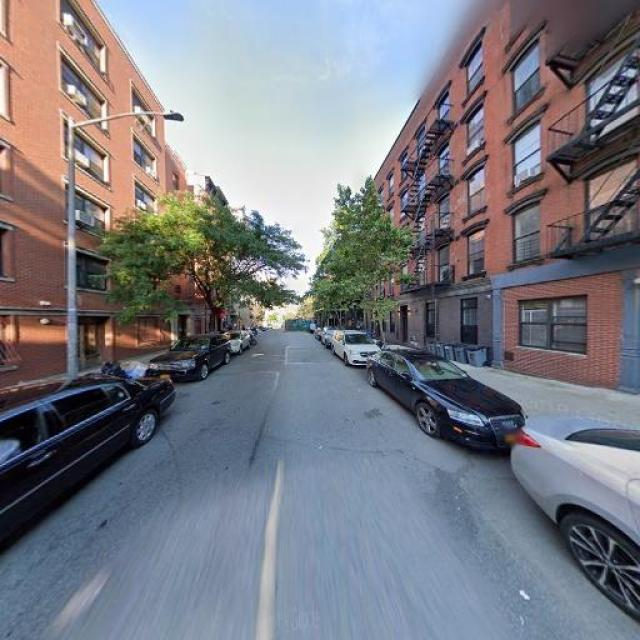Building: (1, 1, 169, 395), (503, 1, 640, 407)
